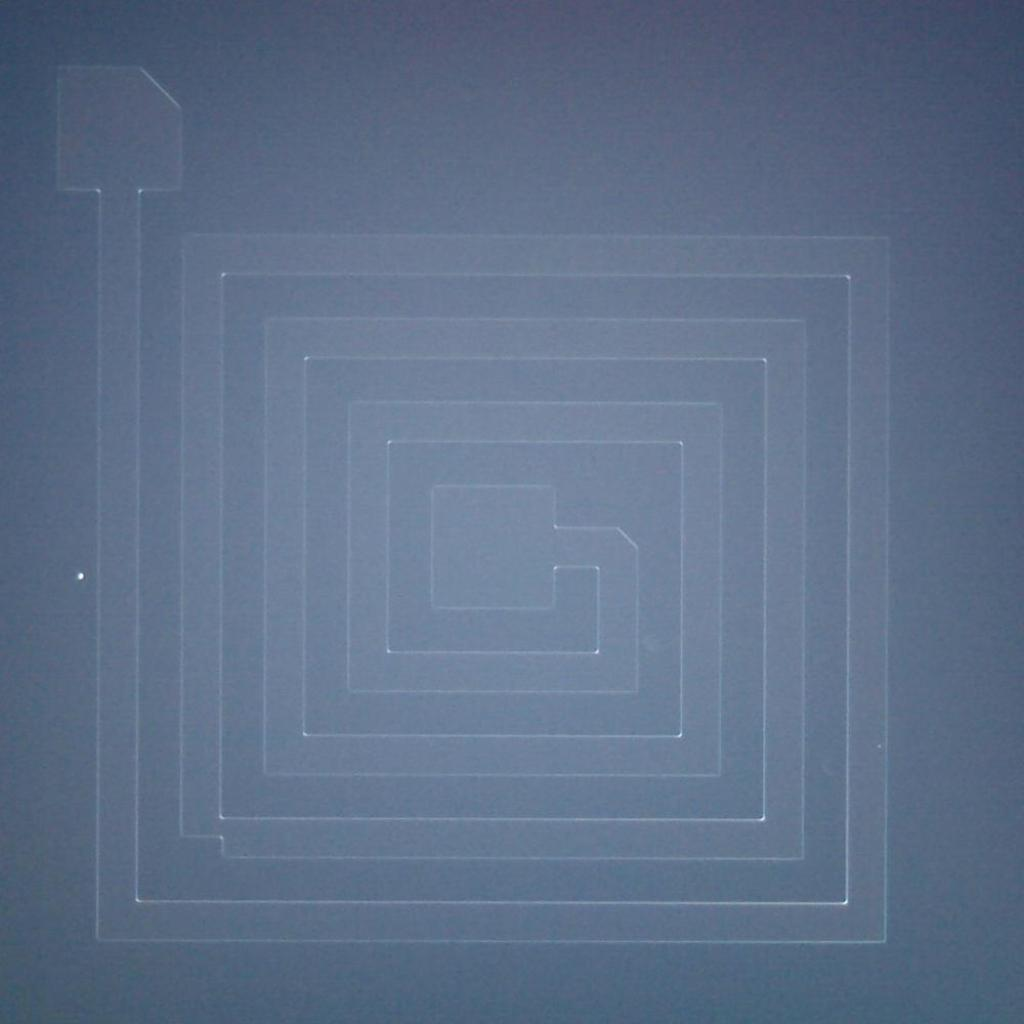dot: (78, 574, 84, 580), (877, 744, 881, 748)
